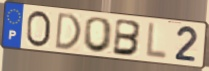2: (174, 24, 199, 66)
B: (111, 18, 143, 58)
D: (54, 10, 83, 51)
L: (144, 21, 169, 62)
O: (81, 16, 115, 55), (25, 9, 52, 49)
